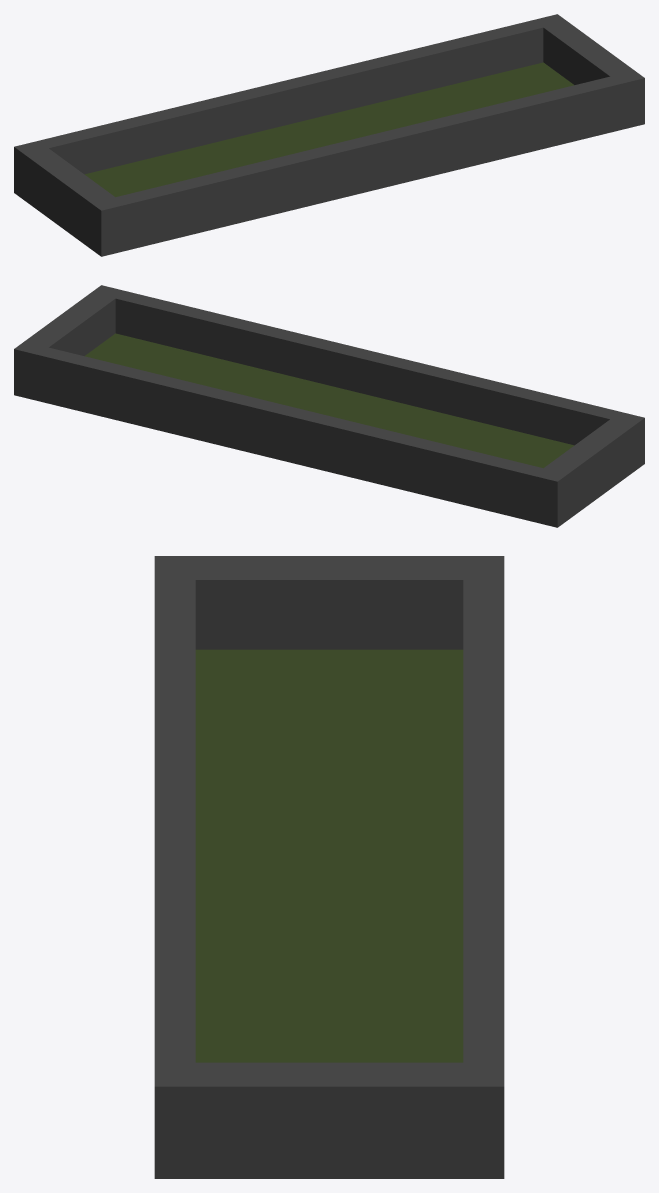
3 views of the same model, one above another, from view 1: azimuth 30°, elevation 25°; view 2: azimuth 150°, elevation 25°; view 3: azimuth 270°, elevation 25° (orthographic). The views are drawn at different scales.
Parts seen in each view (by area): view 1: Cube.006; view 2: Cube.006; view 3: Cube.006.
Boxes of the visible parts, x1,y1,x2,y2 form: Cube.006: (14, 14, 644, 256); Cube.006: (14, 285, 644, 527); Cube.006: (154, 556, 504, 1178).
Bounding box in the file's own units: 718 × 58.26 × 200.
